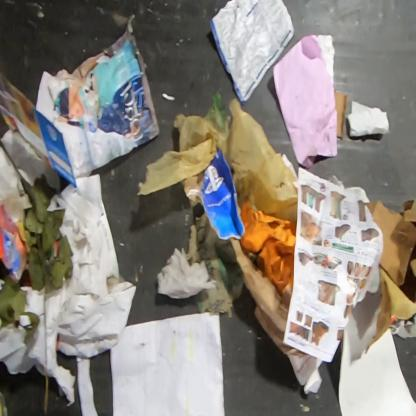cardboard: (230, 238, 310, 359), (185, 211, 244, 319), (0, 70, 48, 159), (0, 201, 31, 286), (344, 100, 390, 138), (180, 170, 206, 208), (334, 88, 348, 140)
soft_plastic: (136, 98, 298, 216)
